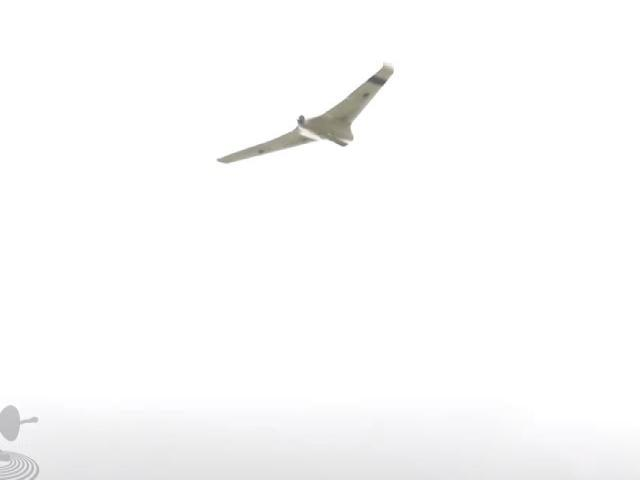iha: (203, 34, 397, 169)
